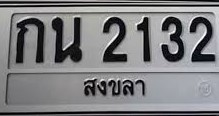txt01: (15, 17, 45, 64)
txt20: (50, 15, 84, 64)
